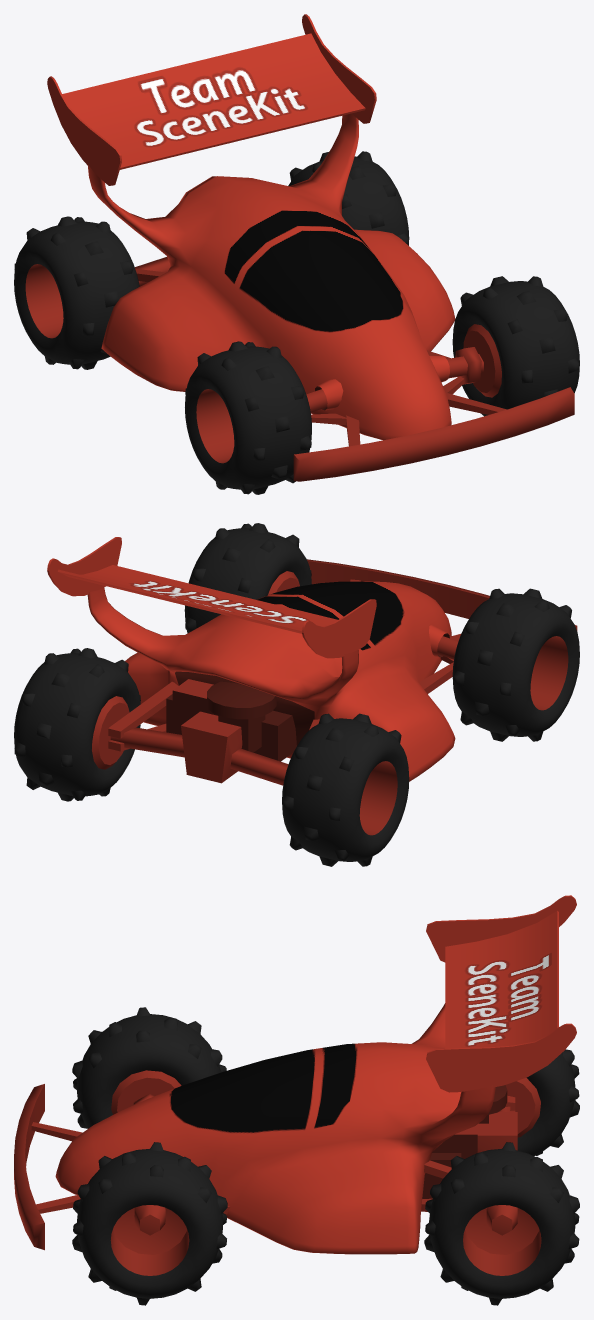
The model's file is rc_car.dae.
3 renders of one model, top to bottom at view 1: azimuth 30°, elevation 25°; view 2: azimuth 150°, elevation 25°; view 3: azimuth 270°, elevation 25°, orthographic. The views are drawn at different scales.
Parts seen in each view (by area): view 1: rccarBody, wing, wheelFrontR1, wheelRearR, wheelFrontL, wheelRearL; view 2: rccarBody, wheelFrontR1, wheelRearR, wheelRearL, wing, wheelFrontL, engine; view 3: rccarBody, wing, wheelRearL, wheelFrontL, wheelFrontR1, wheelRearR, engine.
Part boxes in pixels (x1,y1,x2,y2): rccarBody: (88, 113, 574, 481); wing: (47, 14, 376, 185); wheelFrontR1: (185, 341, 311, 494); wheelRearR: (14, 216, 139, 369); wheelFrontL: (452, 276, 579, 416); wheelRearL: (288, 151, 409, 245); rccarBody: (87, 559, 577, 785); wheelFrontR1: (452, 588, 579, 741); wheelRearR: (282, 713, 409, 866); wheelRearL: (14, 648, 140, 801); wing: (47, 537, 376, 658); wheelFrontL: (184, 523, 311, 633); engine: (166, 679, 296, 761); rccarBody: (14, 1003, 517, 1254); wing: (426, 895, 576, 1092); wheelRearL: (424, 1142, 579, 1305); wheelFrontL: (72, 1142, 227, 1305); wheelFrontR1: (72, 1007, 226, 1128); wheelRearR: (505, 1049, 579, 1156); engine: (422, 1085, 507, 1198).
Bounding box in the file's own units: 7.32 × 5.28 × 10.16.
Materials: 1 (1 with a texture image).
